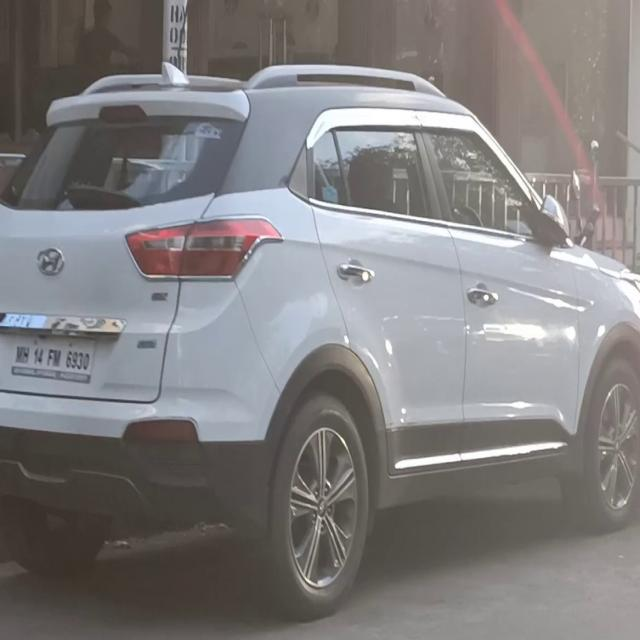Plate: (9, 338, 92, 381)
